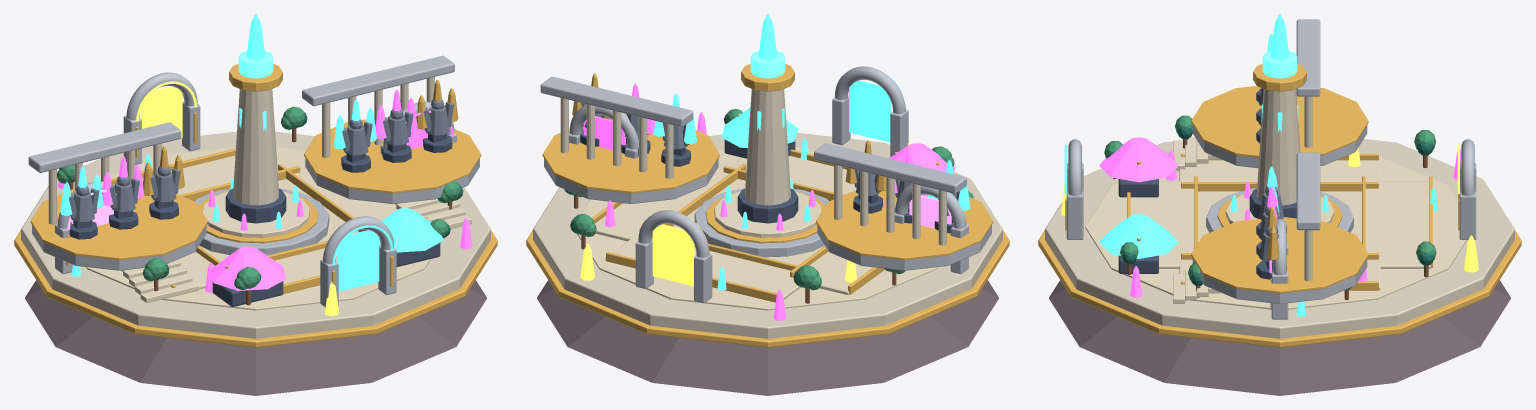
The model's file is Prismora_Capital_V1.fbx.
The picture shows the model from 3 angles, left to right: view 1: azimuth 30°, elevation 25°; view 2: azimuth 150°, elevation 25°; view 3: azimuth 270°, elevation 25°; orthographic projection.
Parts seen in each view (by area): view 1: Empire_CreamStone, Empire_ImperialGold, Empire_FloatingRock, Empire_PaleStone, Empire_WarmTile, Empire_CyanEnergy, Empire_DarkStone, Empire_HeroStone, Empire_MagentaEnergy, Empire_EmeraldLeaves, Empire_GoldEnergy, Empire_PrismGlass; view 2: Empire_CreamStone, Empire_ImperialGold, Empire_FloatingRock, Empire_PaleStone, Empire_WarmTile, Empire_CyanEnergy, Empire_GoldEnergy, Empire_MagentaEnergy, Empire_DarkStone, Empire_EmeraldLeaves, Empire_HeroStone, Empire_PrismGlass (+1 smaller); view 3: Empire_CreamStone, Empire_ImperialGold, Empire_WarmTile, Empire_FloatingRock, Empire_PaleStone, Empire_CyanEnergy, Empire_MagentaEnergy, Empire_DarkStone, Empire_EmeraldLeaves, Empire_HeroStone, Empire_GoldEnergy, Empire_DeepLeaves (+1 smaller).
Boxes of the visible parts, bbox=[...] form: Empire_CreamStone: bbox=[21, 77, 490, 338]; Empire_ImperialGold: bbox=[14, 64, 497, 347]; Empire_FloatingRock: bbox=[25, 280, 486, 395]; Empire_PaleStone: bbox=[28, 55, 479, 307]; Empire_WarmTile: bbox=[86, 146, 471, 310]; Empire_CyanEnergy: bbox=[60, 14, 443, 291]; Empire_DarkStone: bbox=[69, 133, 452, 306]; Empire_HeroStone: bbox=[69, 100, 453, 222]; Empire_MagentaEnergy: bbox=[58, 89, 472, 292]; Empire_EmeraldLeaves: bbox=[57, 106, 460, 291]; Empire_GoldEnergy: bbox=[136, 81, 338, 316]; Empire_PrismGlass: bbox=[238, 50, 273, 78]; Empire_CreamStone: bbox=[533, 89, 1002, 338]; Empire_ImperialGold: bbox=[526, 64, 1009, 347]; Empire_FloatingRock: bbox=[537, 280, 998, 395]; Empire_PaleStone: bbox=[540, 66, 991, 303]; Empire_WarmTile: bbox=[577, 147, 937, 310]; Empire_CyanEnergy: bbox=[653, 14, 970, 290]; Empire_GoldEnergy: bbox=[580, 138, 909, 286]; Empire_MagentaEnergy: bbox=[583, 83, 955, 320]; Empire_DarkStone: bbox=[580, 129, 953, 233]; Empire_EmeraldLeaves: bbox=[568, 109, 973, 290]; Empire_HeroStone: bbox=[581, 103, 959, 215]; Empire_PrismGlass: bbox=[750, 50, 785, 78]; Empire_CreamStone: bbox=[1045, 89, 1514, 338]; Empire_ImperialGold: bbox=[1038, 64, 1521, 347]; Empire_WarmTile: bbox=[1085, 137, 1466, 309]; Empire_FloatingRock: bbox=[1049, 280, 1510, 395]; Empire_PaleStone: bbox=[1066, 19, 1476, 319]; Empire_CyanEnergy: bbox=[1064, 14, 1438, 316]; Empire_MagentaEnergy: bbox=[1099, 137, 1461, 297]; Empire_DarkStone: bbox=[1118, 88, 1296, 279]; Empire_EmeraldLeaves: bbox=[1104, 115, 1436, 280]; Empire_HeroStone: bbox=[1259, 88, 1283, 262]; Empire_GoldEnergy: bbox=[1061, 144, 1478, 272]; Empire_DeepLeaves: bbox=[1107, 127, 1433, 289].
Size of the model in its own units: 147 by 93.33 by 144.
